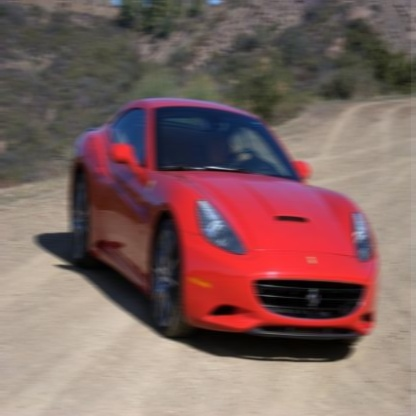Vehicle: (69, 96, 376, 346)
